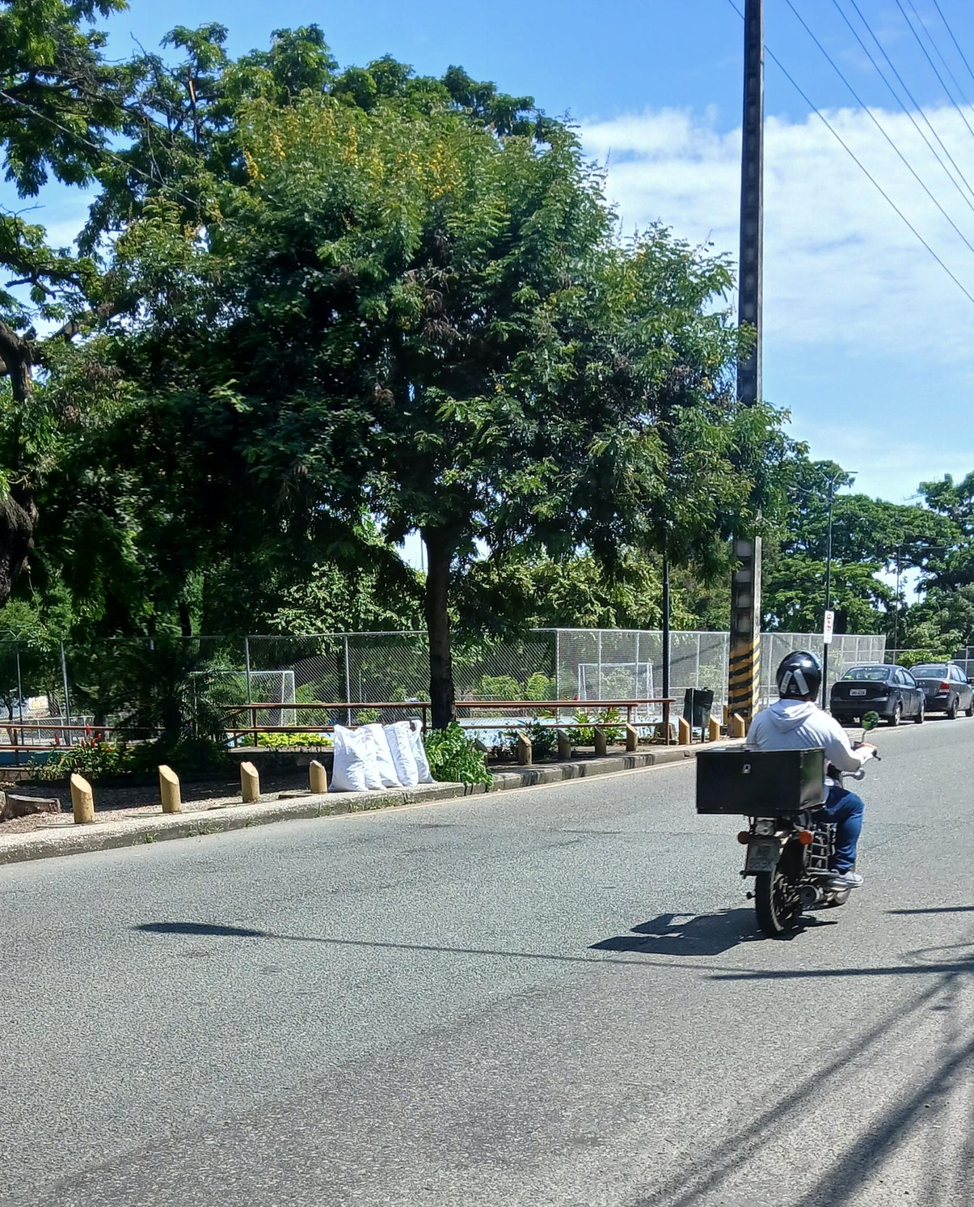license_plate: (743, 838, 780, 872), (849, 689, 866, 695)
